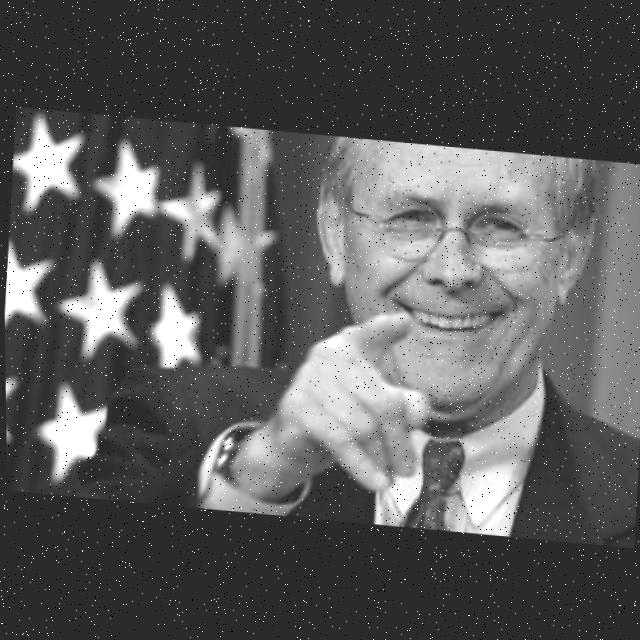face: (312, 135, 609, 464)
